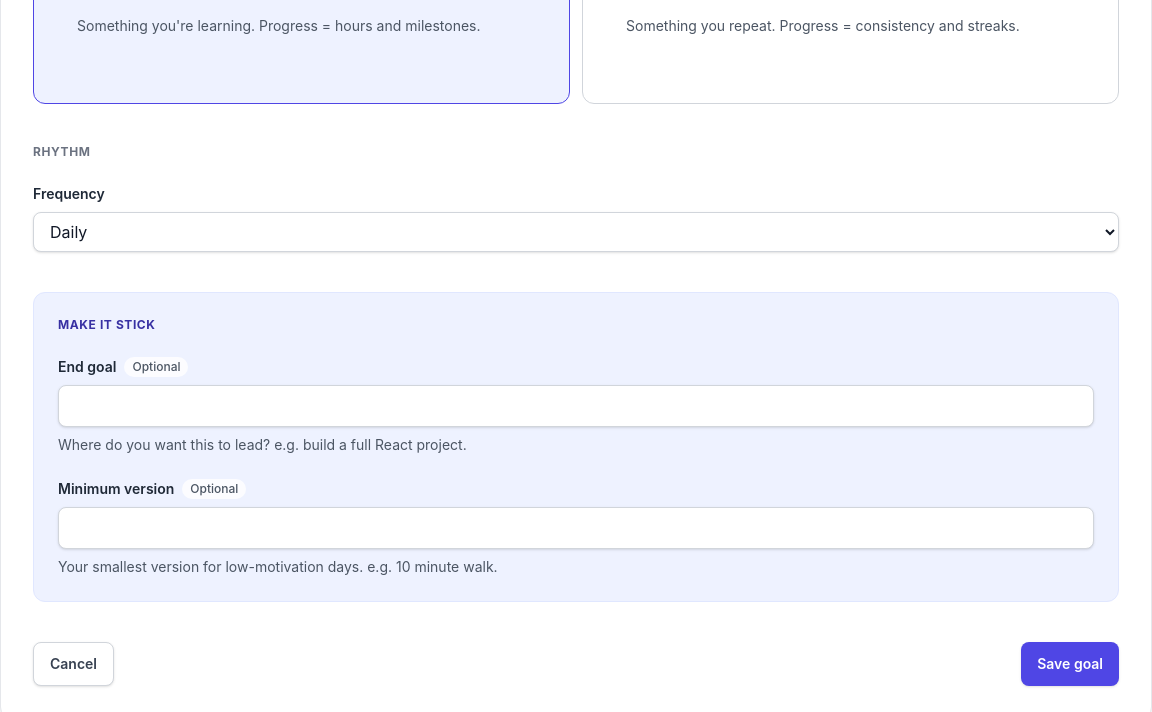
Test case: GoalForm › shows an error for an empty title without adding a goal
(page scrolled)
Click the button "Save goal" at [1070, 664], box [1021,642,1119,686]
(page scrolled)
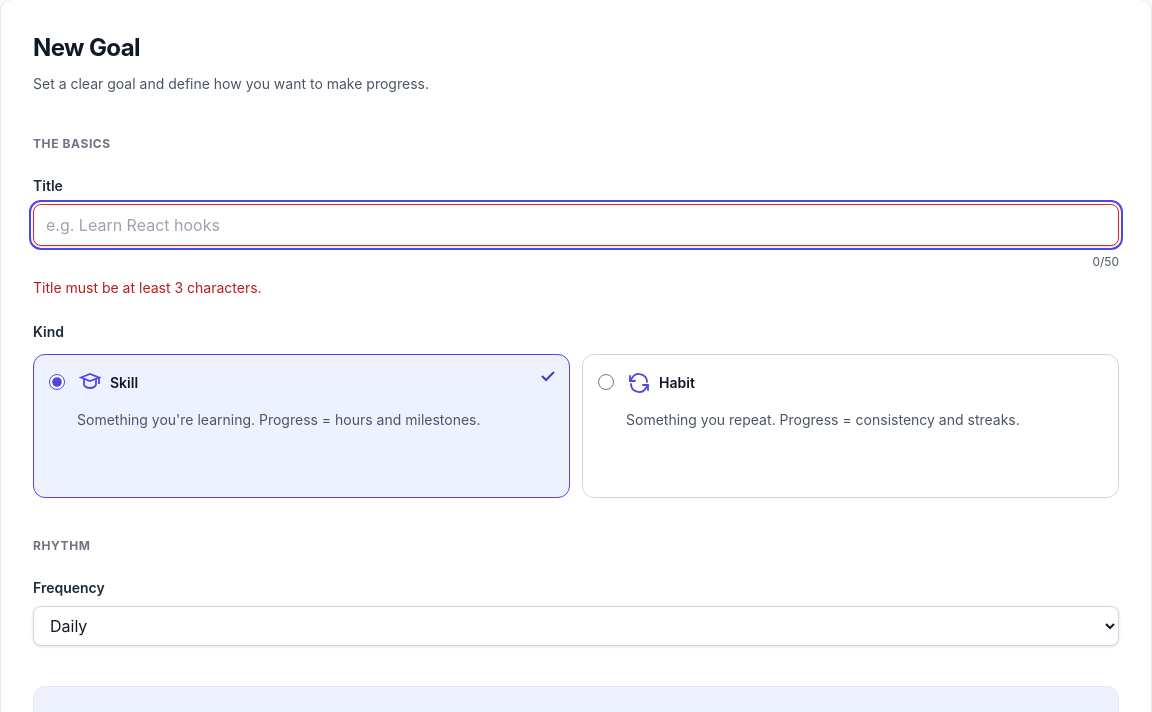
Expected: the text "Title must be at least 3 characters." is shown, [33,279,262,296]
